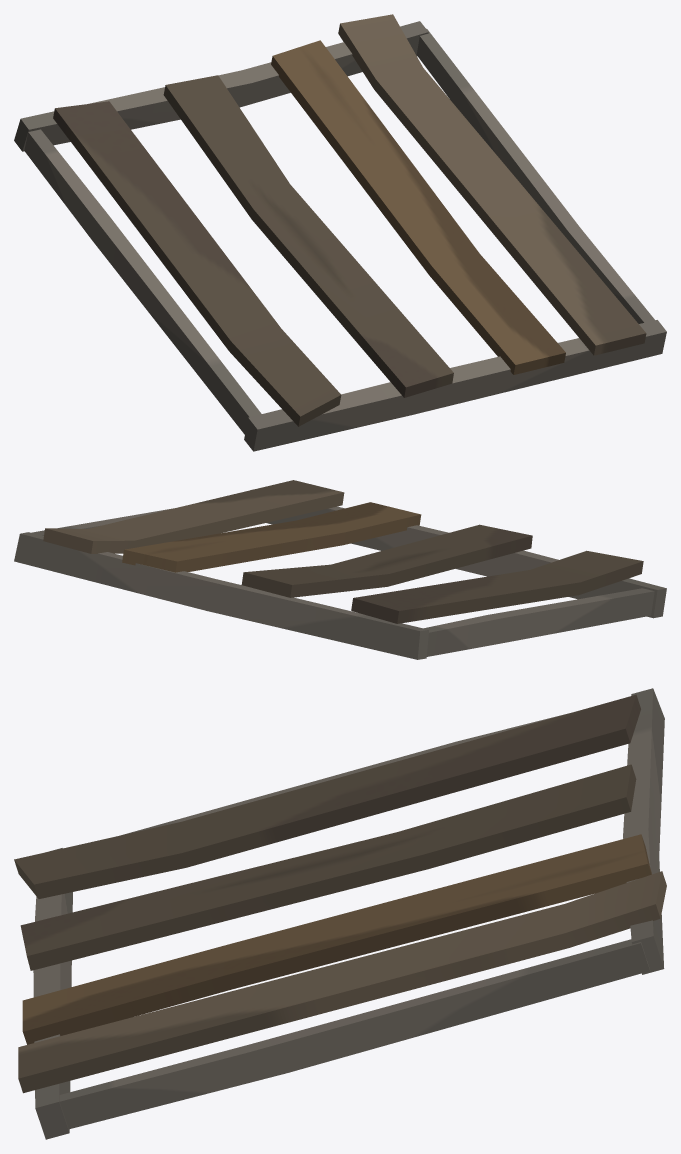
File: SM_Bld_Roof_Wood_01.fbx
3 views of the same model, one above another, from view 1: azimuth 30°, elevation 25°; view 2: azimuth 150°, elevation 25°; view 3: azimuth 270°, elevation 25° (orthographic). The views are drawn at different scales.
Parts seen in each view (by area): view 1: SM_Bld_Roof_Wood_01; view 2: SM_Bld_Roof_Wood_01; view 3: SM_Bld_Roof_Wood_01.
Part boxes in pixels (x1,y1,x2,y2): SM_Bld_Roof_Wood_01: [14, 14, 666, 451]; SM_Bld_Roof_Wood_01: [14, 480, 666, 659]; SM_Bld_Roof_Wood_01: [14, 688, 666, 1139].
Bounding box in the file's own units: 254 × 102 × 277.
Materials: 1 (1 with a texture image).
